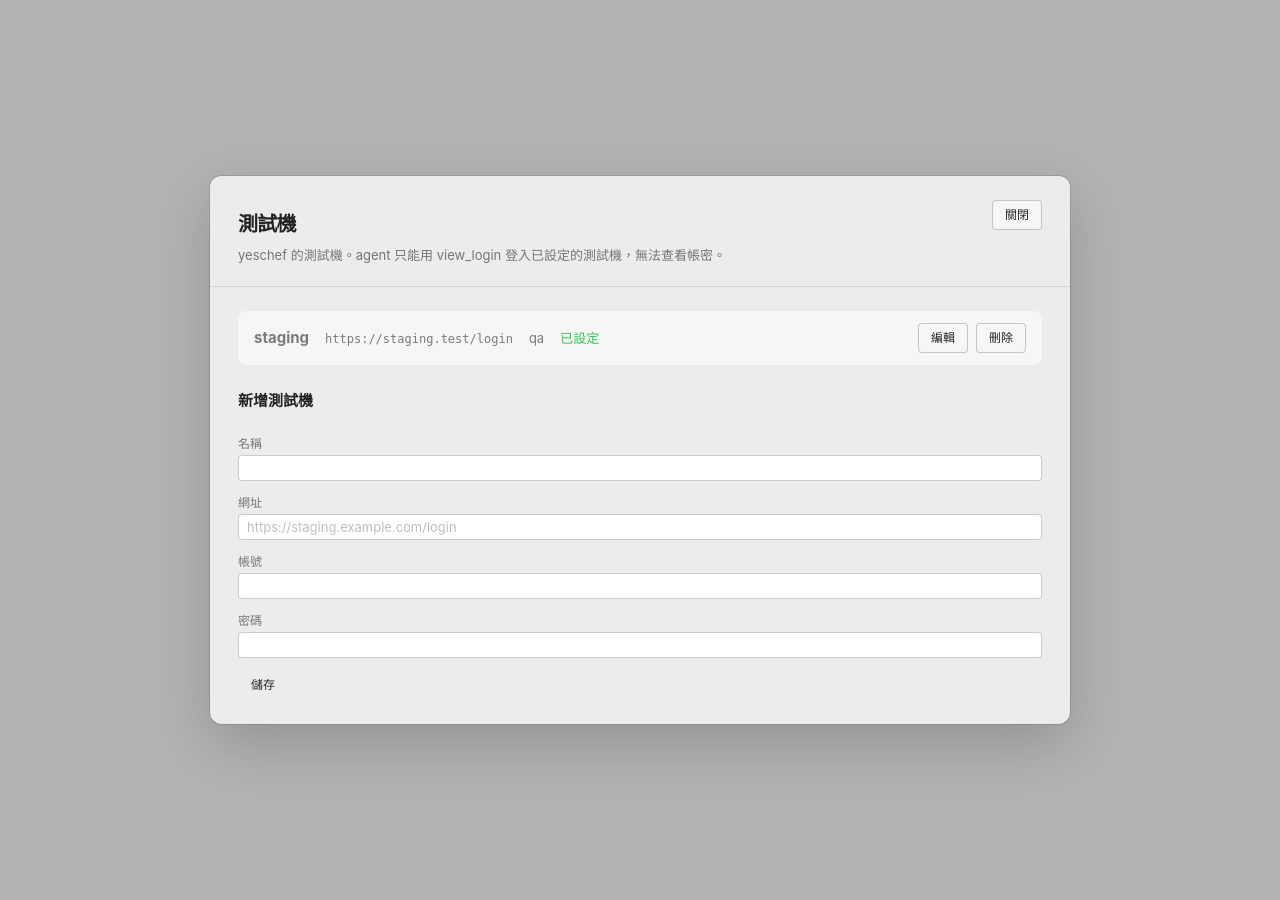
Test: TestMachinesManager › 主行程回 error 就顯示在表單下方
Expected: the heading "staging" is shown, [254,328,309,347]
Type "x" into the field labelled "名稱". click: (640, 468)
box: [238,455,1042,481]
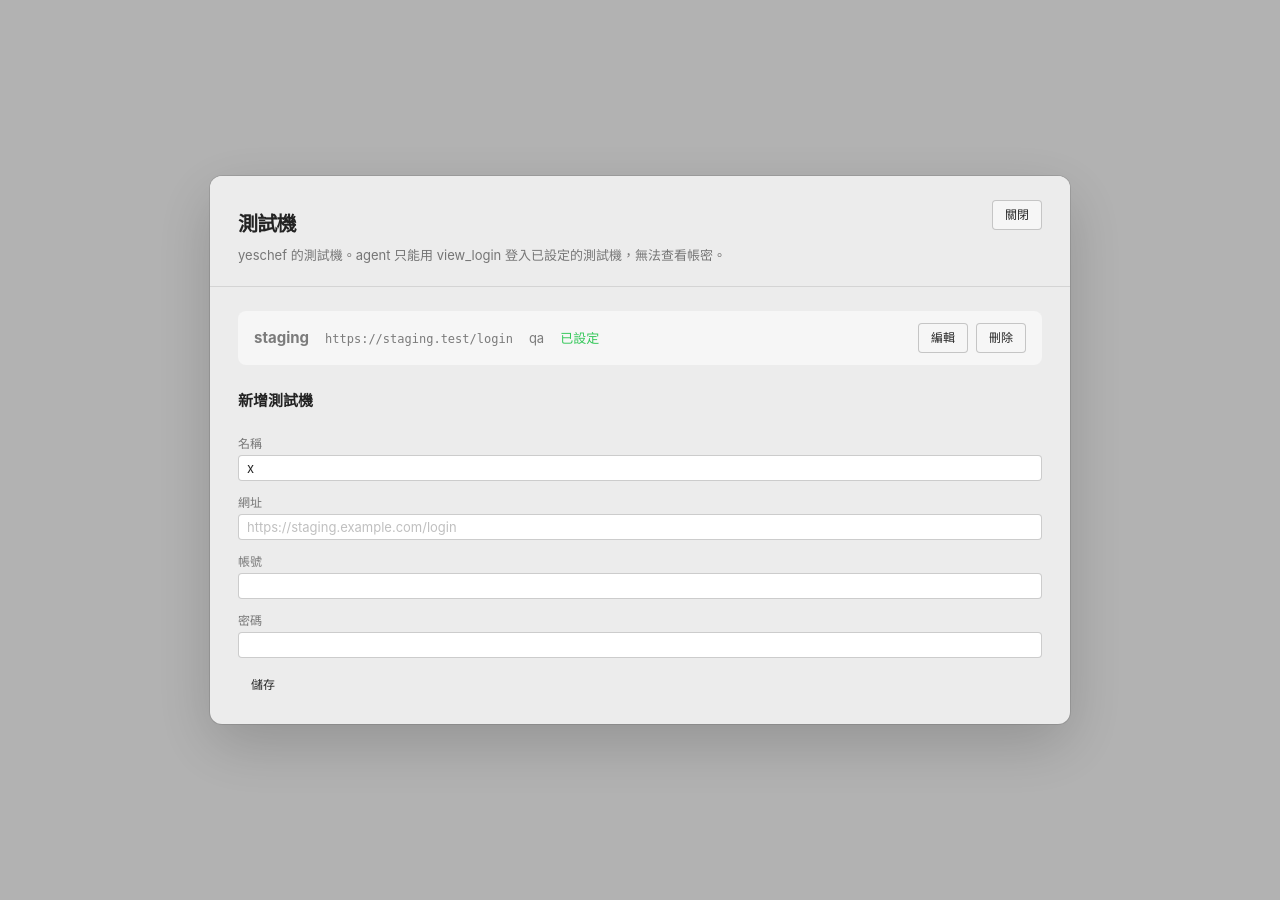
Type "https://x.test/" into the field labelled "網址". click: (640, 527)
box: [238,514,1042,540]
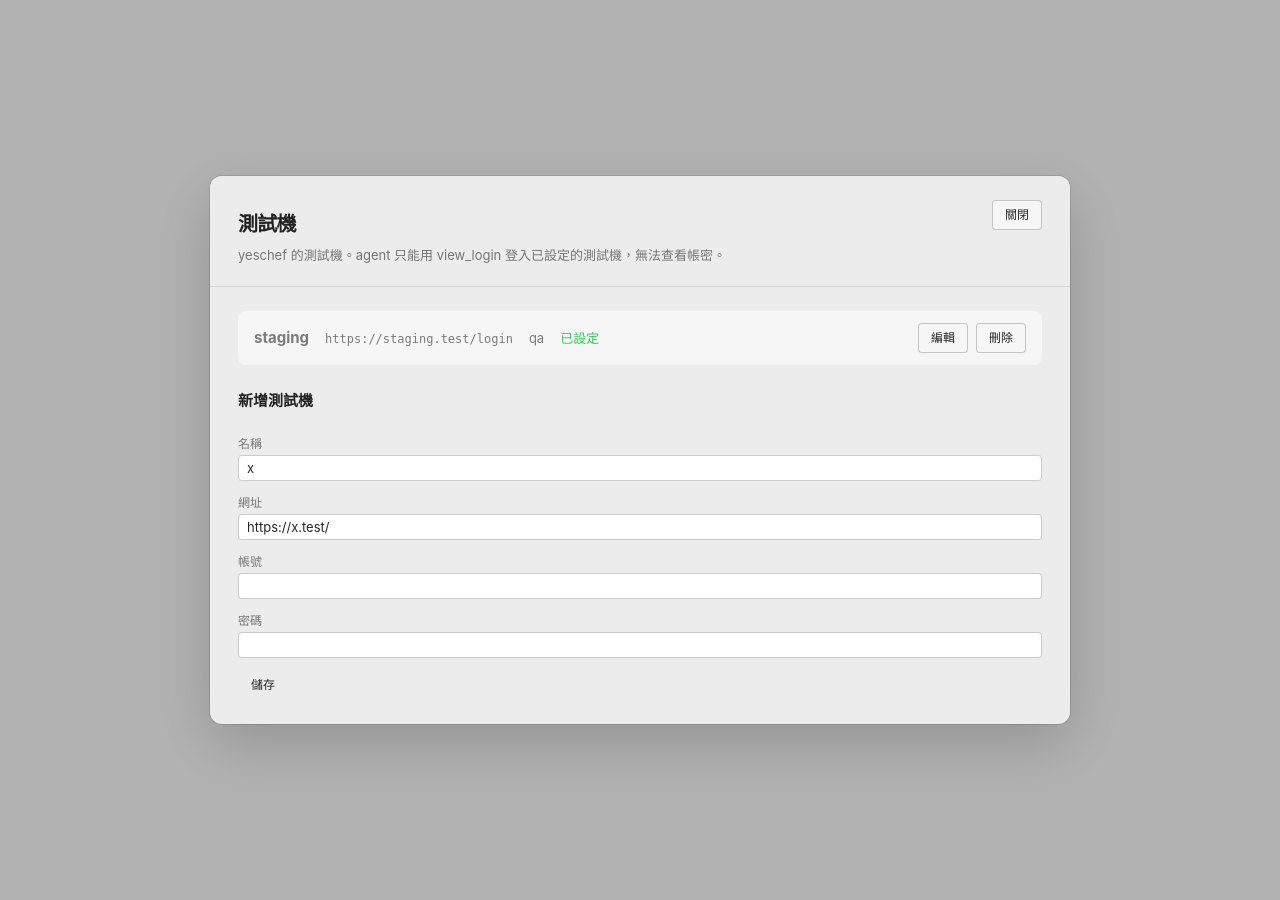
Type "u" into the field labelled "帳號". click: (640, 586)
box: [238,573,1042,599]
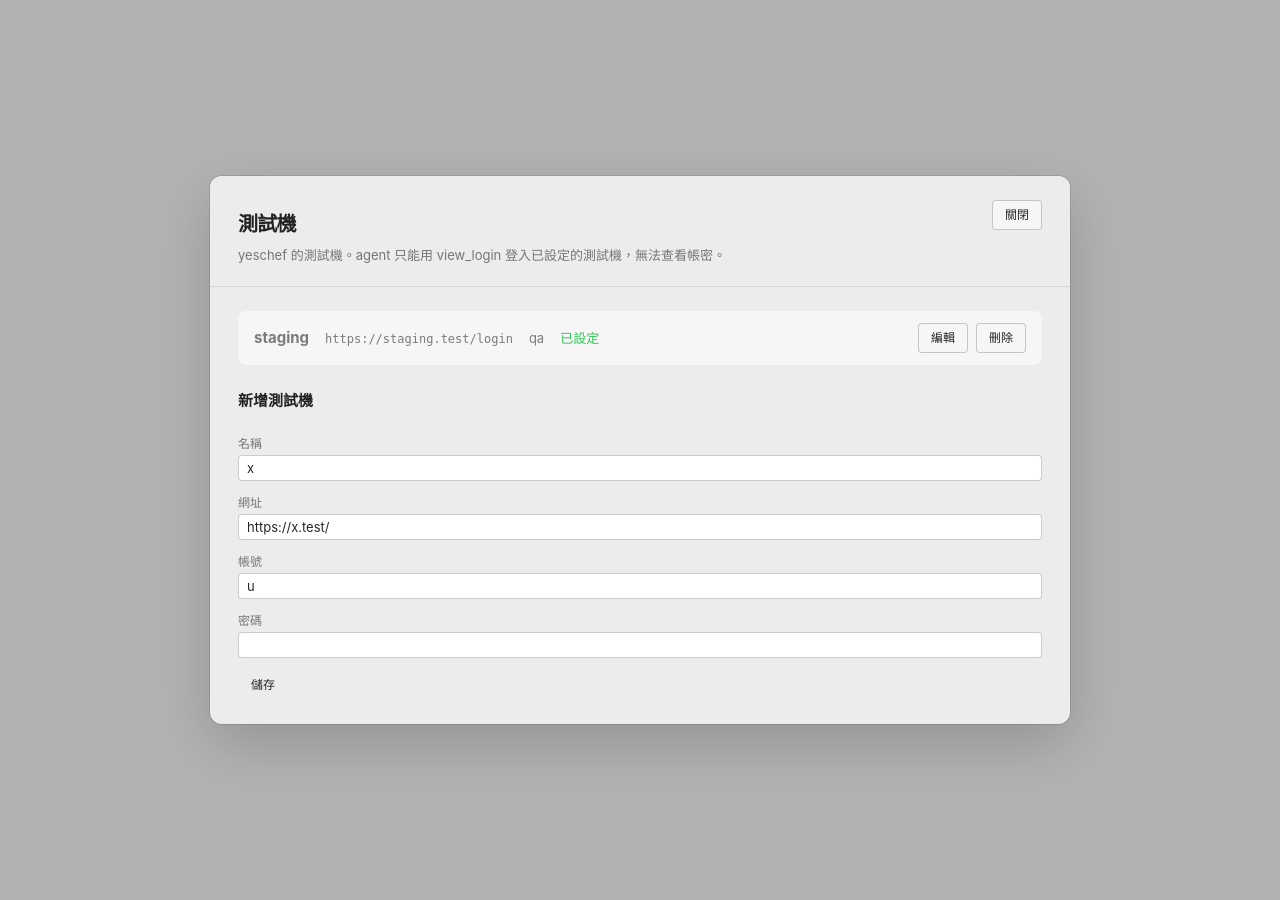
Click the button "儲存". click: (263, 685)
box: [238,670,288,700]
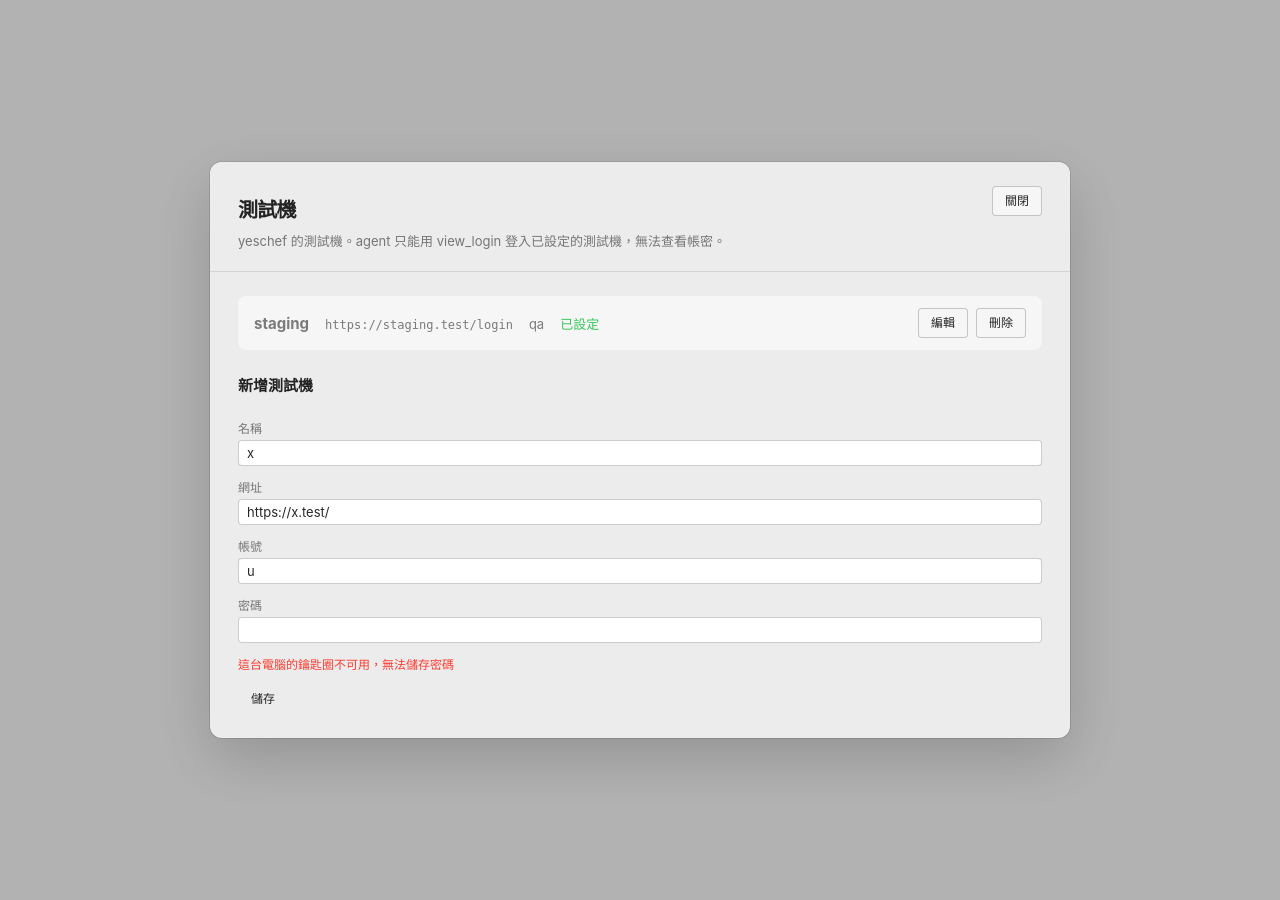
Expected: the message reads "這台電腦的鑰匙圈不可用，無法儲存密碼", [238,657,454,672]
